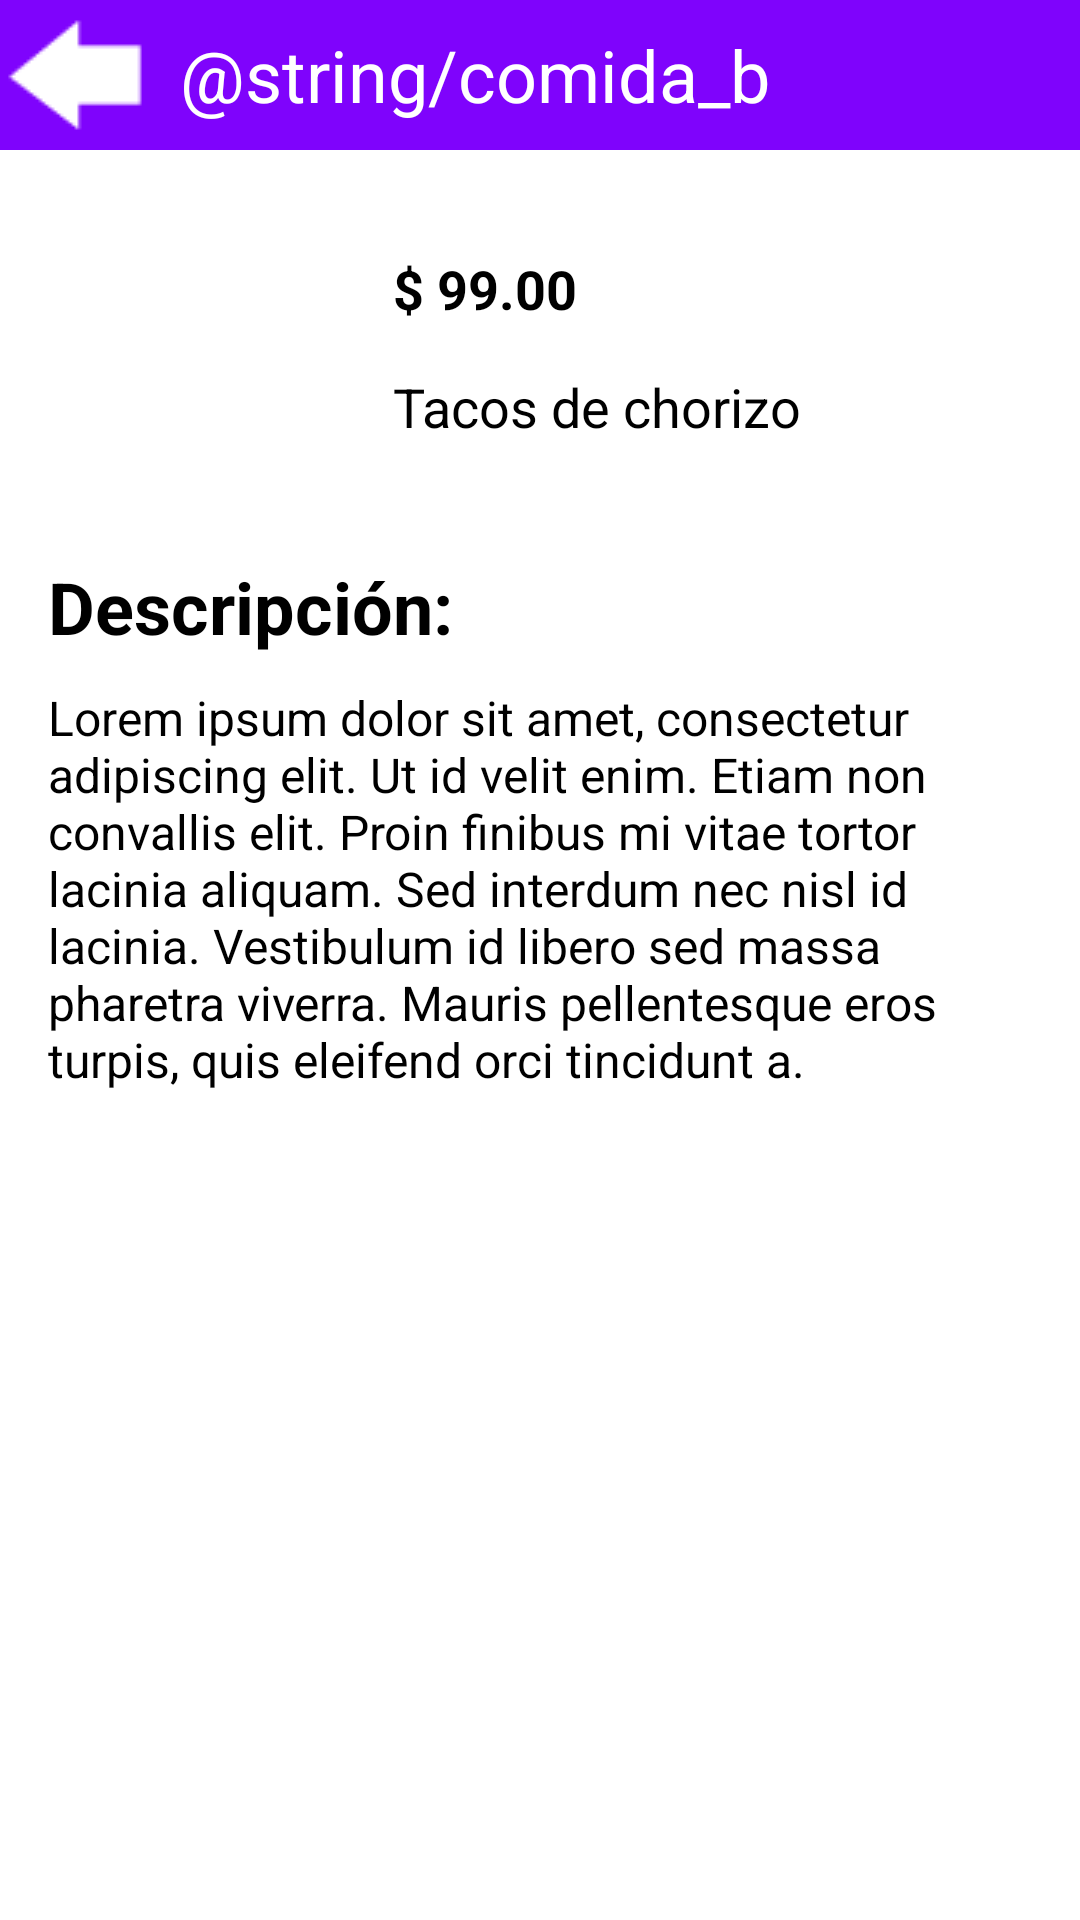

Icon bounding boxes for this 1080 × 1920 phone screenshot, format Rect(x1, y1, x2, y2):
back: Rect(8, 20, 142, 130)
